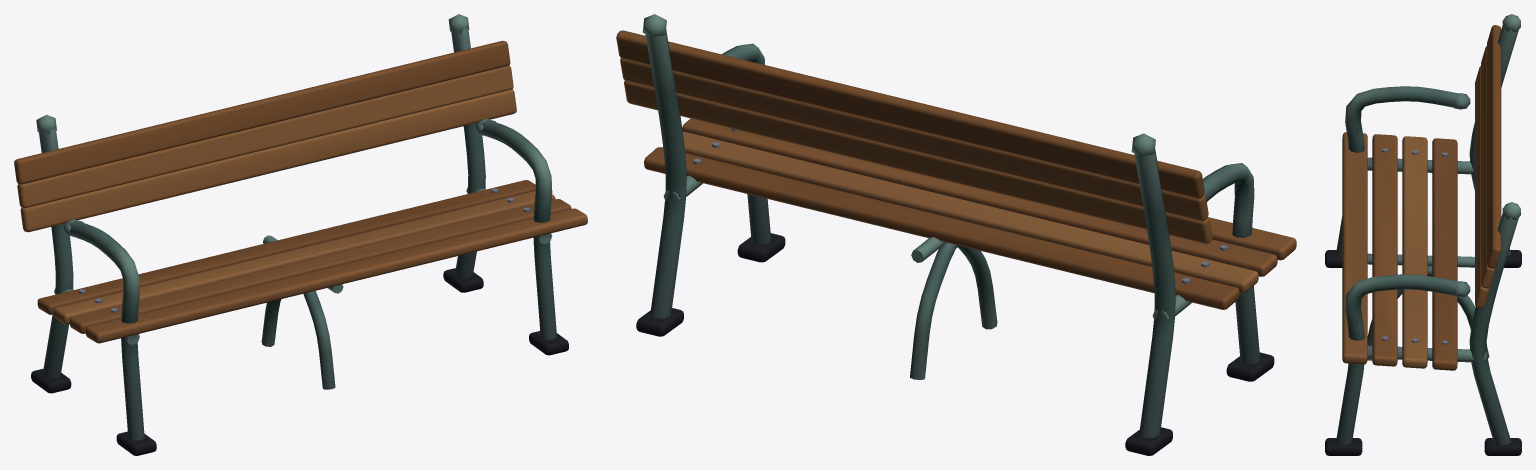
Rendered from banc_parc.glb.
3 views of the same model, side by side, from view 1: azimuth 30°, elevation 25°; view 2: azimuth 150°, elevation 25°; view 3: azimuth 270°, elevation 25° (orthographic). The views are drawn at different scales.
Parts seen in each view (by area): view 1: banc_parc; view 2: banc_parc; view 3: banc_parc.
Part boxes in pixels (x1,y1,x2,y2): banc_parc: [14, 14, 587, 455]; banc_parc: [616, 14, 1296, 455]; banc_parc: [1325, 14, 1521, 455].
Bounding box in the file's own units: 1.86 × 0.9723 × 0.69.
